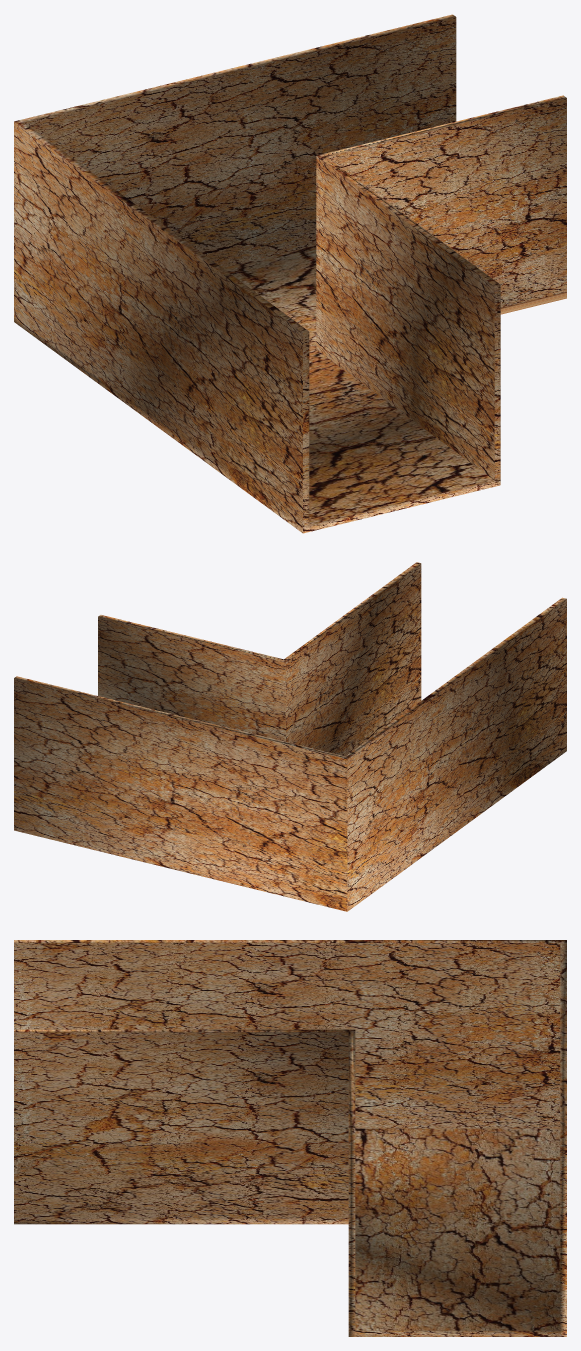
File: Pasillo2.obj
The picture shows the model from 3 angles, top to bottom: view 1: azimuth 30°, elevation 25°; view 2: azimuth 150°, elevation 25°; view 3: azimuth 270°, elevation 25°; orthographic projection. The views are drawn at different scales.
Parts seen in each view (by area): view 1: Pasillo032; view 2: Pasillo032; view 3: Pasillo032.
Part boxes in pixels (box(x1,y1,x2,y2)): Pasillo032: box(14, 14, 566, 533); Pasillo032: box(14, 562, 566, 911); Pasillo032: box(14, 940, 566, 1336).
Size of the model in its own units: 280 by 122 by 319.
